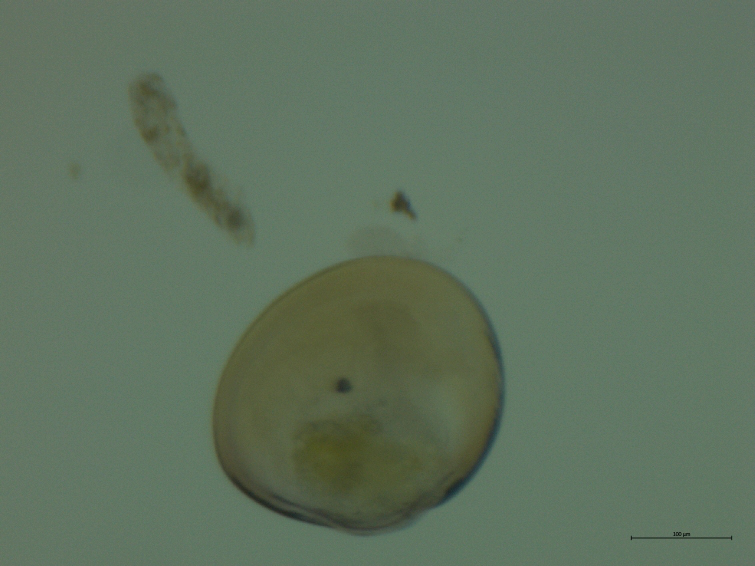oyster: (194, 246, 515, 540)
